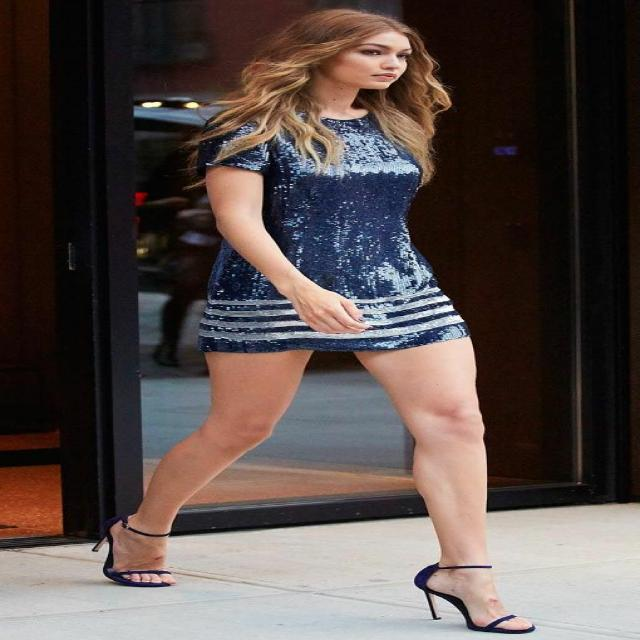female-dress: (184, 98, 475, 354)
